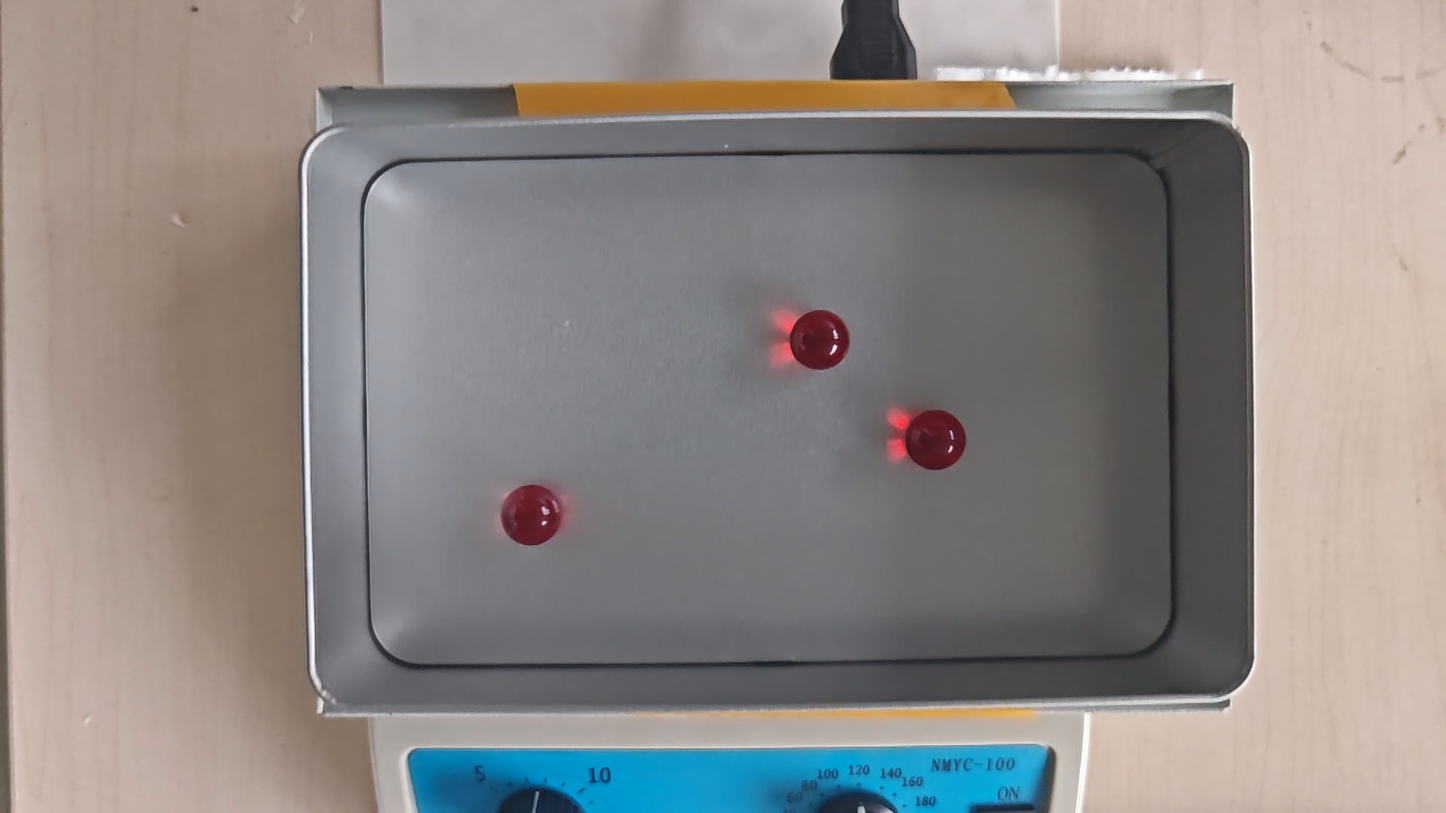ball: (500, 484, 563, 549), (905, 411, 968, 470), (792, 309, 849, 367)
container: (365, 152, 1171, 664)
